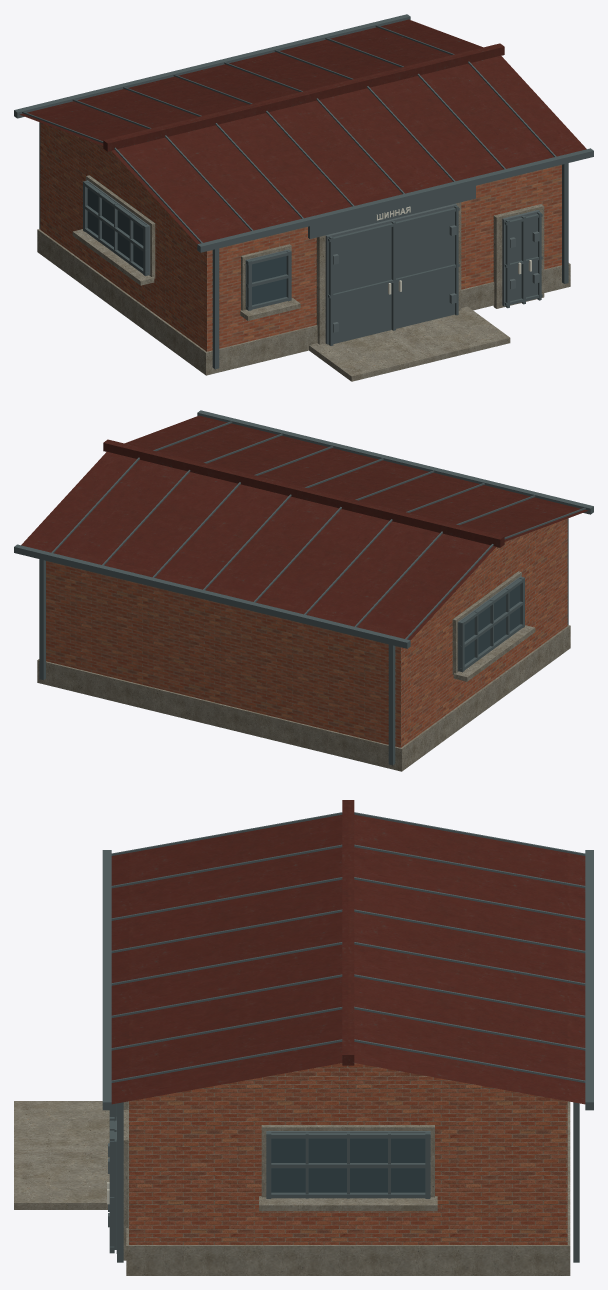
Rendered from atp_tire_shop.glb.
3 renders of one model, top to bottom at view 1: azimuth 30°, elevation 25°; view 2: azimuth 150°, elevation 25°; view 3: azimuth 270°, elevation 25°, orthographic. The views are drawn at different scales.
Parts seen in each view (by area): view 1: atp_tire_shop; view 2: atp_tire_shop; view 3: atp_tire_shop.
Boxes of the visible parts, bbox=[...] form: atp_tire_shop: bbox=[14, 14, 593, 381]; atp_tire_shop: bbox=[14, 410, 593, 771]; atp_tire_shop: bbox=[14, 800, 593, 1275].
Size of the model in its own units: 11 by 4.72 by 10.58.
Materials: 7 (3 with a texture image).
